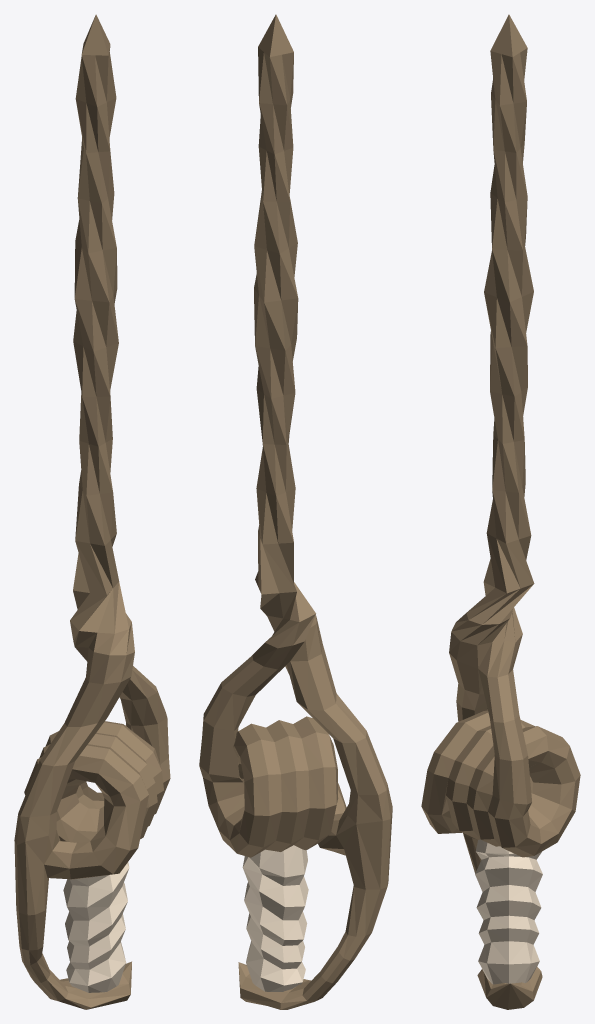
File: _sword_20.fbx
3 views of the same model, side by side, from view 1: azimuth 30°, elevation 25°; view 2: azimuth 150°, elevation 25°; view 3: azimuth 270°, elevation 25° (orthographic).
Parts seen in each view (by area): view 1: sword_20; view 2: sword_20; view 3: sword_20.
Part boxes in pixels (left/top/right/bottom): sword_20: left=14, top=14, right=170, bottom=1009; sword_20: left=199, top=14, right=392, bottom=1009; sword_20: left=421, top=14, right=580, bottom=1009.
Bounding box in the file's own units: 16.37 × 91.19 × 13.36.
